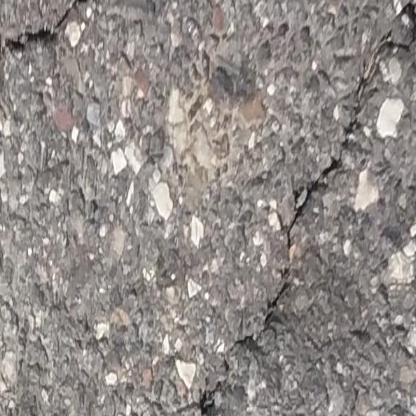Cracks: (187, 0, 416, 416), (0, 0, 132, 100)
